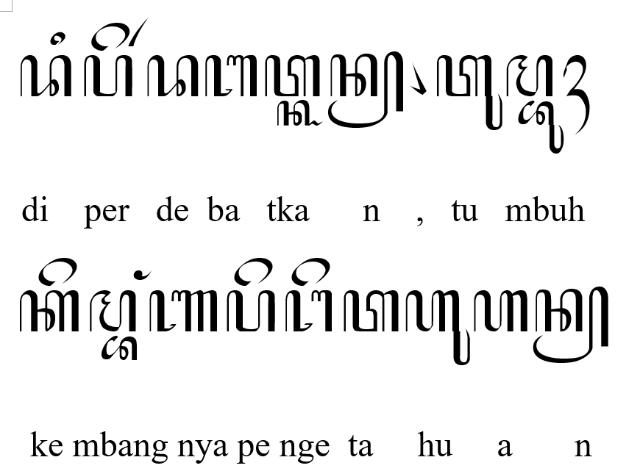-n: (532, 286, 610, 364), (328, 50, 404, 128)
_b: (102, 334, 138, 362)
_bu: (518, 100, 564, 154)
_h1: (564, 53, 590, 136)
_k: (19, 290, 80, 334), (276, 100, 322, 126)
_r1: (128, 17, 148, 47)
b: (204, 53, 258, 97)
d: (19, 54, 72, 98), (147, 54, 199, 97)
e: (90, 22, 130, 52), (233, 256, 273, 286), (290, 257, 330, 287), (37, 258, 77, 286)
h: (473, 290, 529, 334)
hu: (404, 290, 472, 366)
i: (50, 32, 66, 46)
kom: (408, 61, 426, 95)
m: (505, 54, 553, 97), (90, 289, 136, 333)
ng: (132, 269, 152, 281)
nga: (285, 289, 333, 333)
ny1: (149, 289, 219, 333)
p: (82, 54, 134, 97), (226, 290, 276, 332)
t: (264, 54, 320, 97), (343, 290, 399, 332)
tu: (436, 54, 504, 130)
